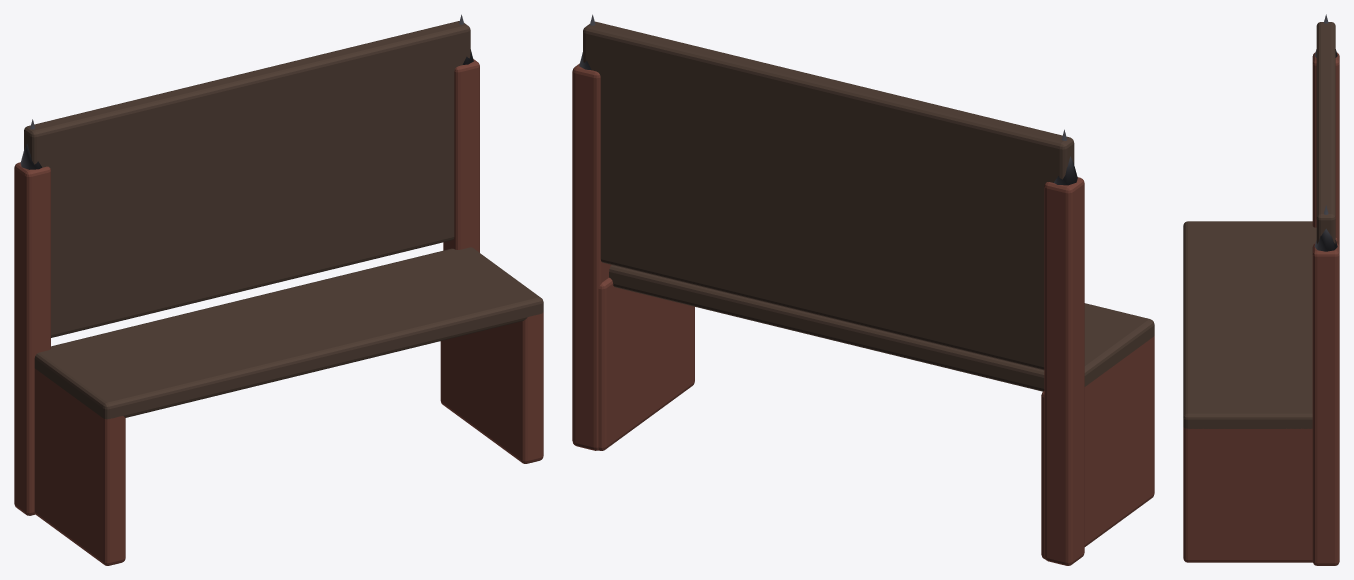
The model's file is bench.glb.
The picture shows the model from 3 angles, left to right: view 1: azimuth 30°, elevation 25°; view 2: azimuth 150°, elevation 25°; view 3: azimuth 270°, elevation 25°; orthographic projection. The views are drawn at different scales.
Visible parts, largest first — view 1: GD_bench; view 2: GD_bench; view 3: GD_bench.
Boxes of the visible parts, x1=… form: GD_bench: x1=14, y1=14, x2=543, y2=565; GD_bench: x1=572, y1=14, x2=1154, y2=565; GD_bench: x1=1183, y1=14, x2=1339, y2=565.
Bounding box in the file's own units: 1.24 × 1.02 × 0.405.
